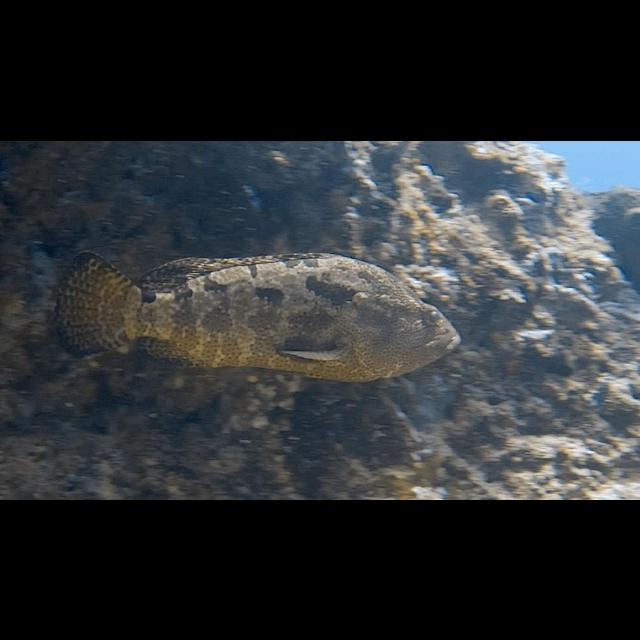Groupers: (57, 247, 465, 381)
